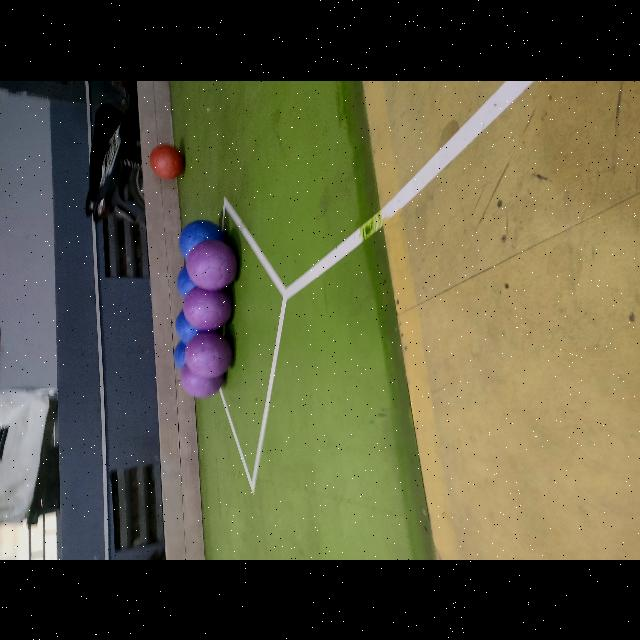B: (179, 220, 225, 258), (175, 311, 199, 344), (177, 266, 195, 296)
P: (186, 240, 238, 290), (182, 287, 232, 331), (185, 331, 232, 377), (177, 359, 225, 395)
R: (150, 145, 184, 179)
